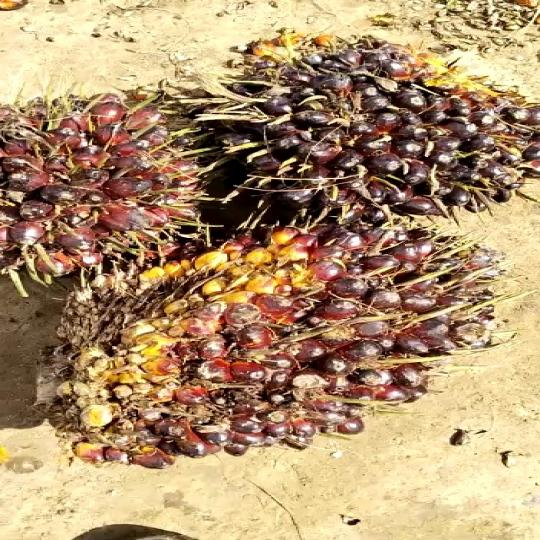kurang masak: (66, 220, 498, 475), (179, 39, 540, 220), (0, 90, 223, 281)
